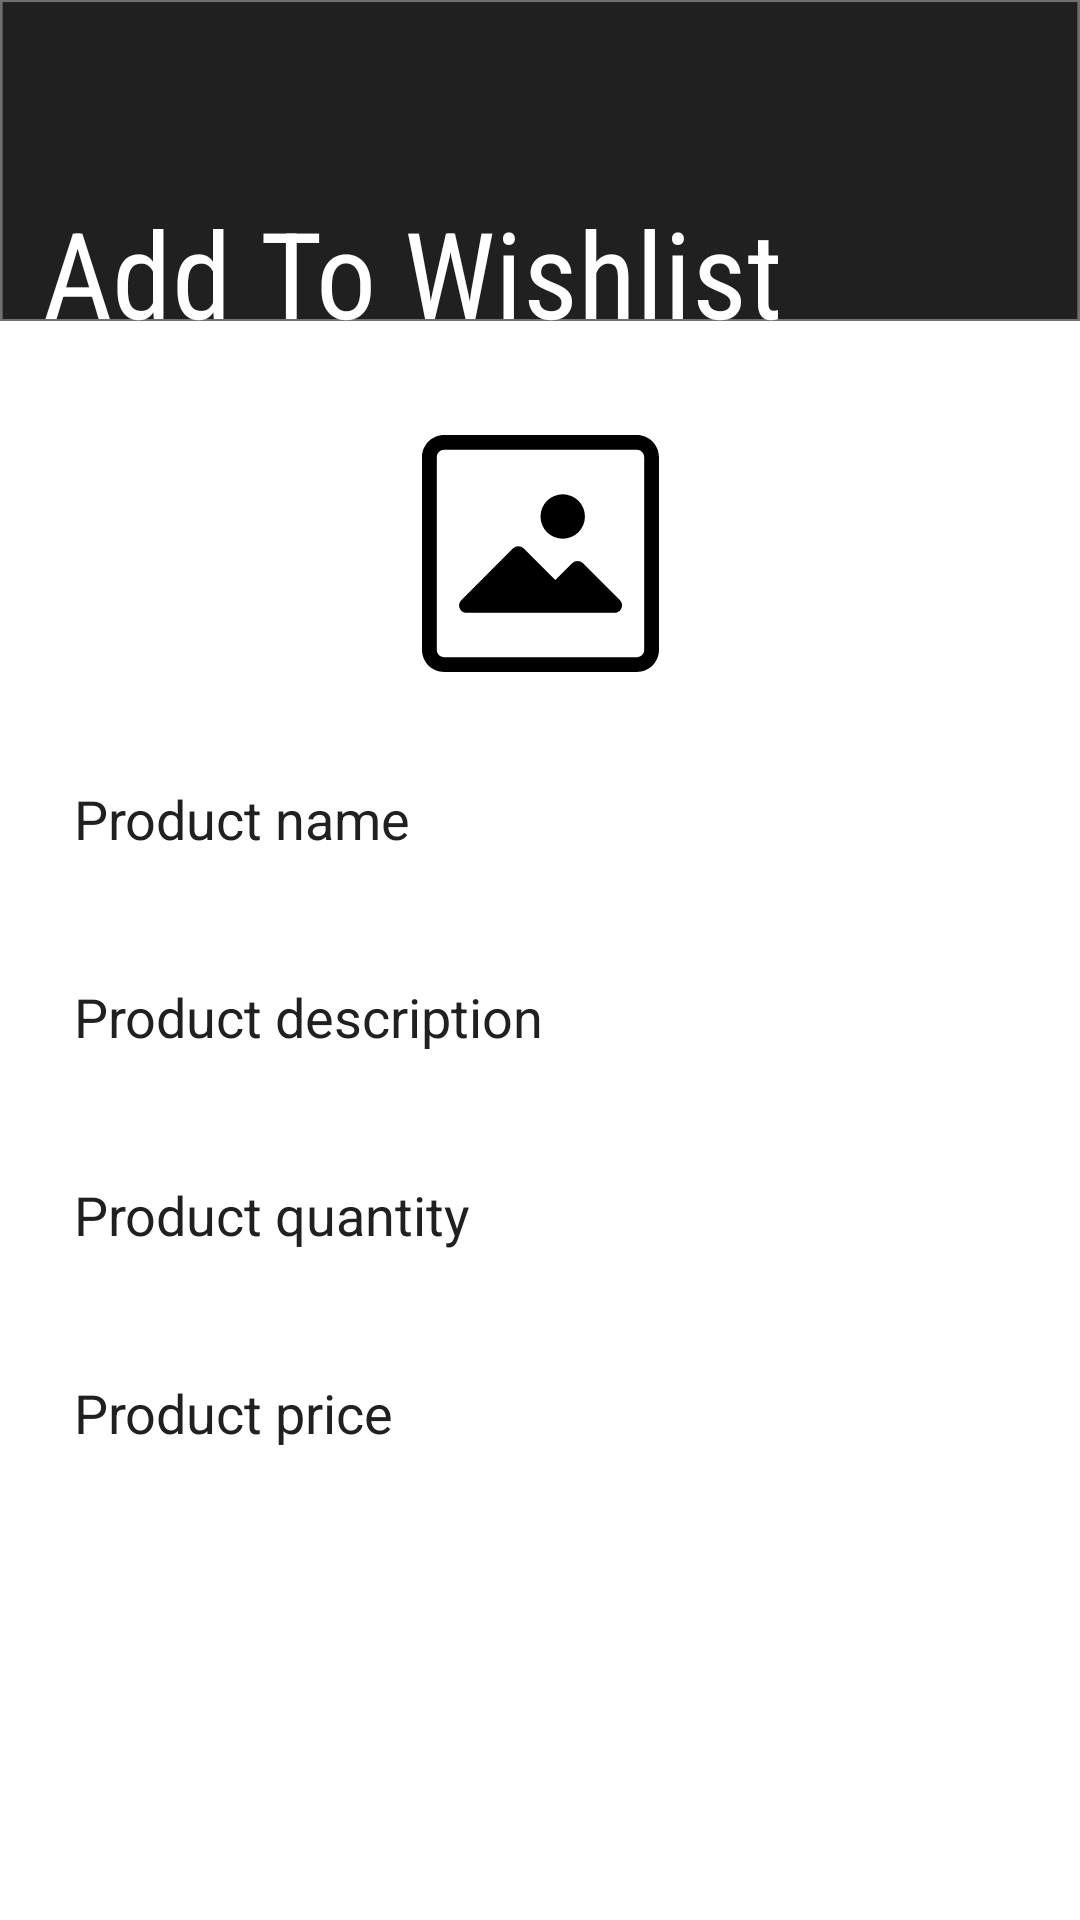

Icons on this 1080×1920 Android screen, each with the point to tap as (x,y):
thumbnail: (540,553)
